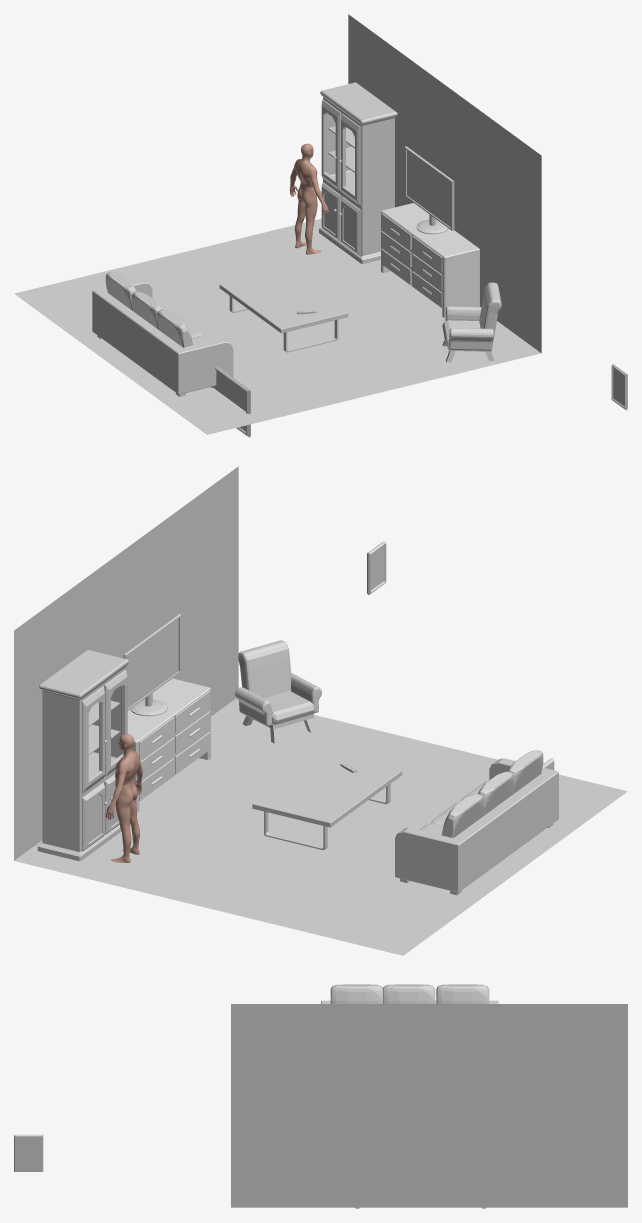
Rendered from Painting_Large.fbx.
The picture shows the model from 3 angles, top to bottom: view 1: azimuth 30°, elevation 25°; view 2: azimuth 150°, elevation 25°; view 3: azimuth 270°, elevation 25°; orthographic projection. The views are drawn at different scales.
Parts seen in each view (by area): view 1: Cube.009, Cube.012, Cube.019, Cube.002, Cube, Cube.036, Cube.004, HumanBody:humanBody, Cube.062, Cube.016, Cube.030, Cube.022 (+5 smaller); view 2: Cube.009, Cube.012, Cube.019, Cube.002, Cube.036, Cube.004, Cube, HumanBody:humanBody, Cube.062, Cube.013, Cube.016, Cube.020 (+7 smaller); view 3: Cube.009, Cube.031, Cube.020, Cube.021, Cube.023.
Part boxes in pixels (x1,y1,x2,y2): Cube.009: (14,14,541,434); Cube.012: (319,82,397,263); Cube.019: (92,279,233,396); Cube.002: (219,268,348,352); Cube: (381,203,479,317); Cube.036: (442,282,501,362); Cube.004: (404,146,454,230); HumanBody:humanBody: (289,143,329,254); Cube.062: (321,99,341,191); Cube.016: (339,113,360,205); Cube.030: (211,366,250,437); Cube.022: (339,196,360,255); Cube.009: (14,466,627,955); Cube.012: (37,650,130,861); Cube.019: (395,758,558,895); Cube.002: (252,751,402,850); Cube.036: (235,640,321,743); Cube.004: (123,614,181,710); Cube: (127,678,210,812); HumanBody:humanBody: (105,734,142,862); Cube.062: (82,686,107,793); Cube.013: (82,782,107,851); Cube.016: (104,670,127,776); Cube.020: (441,794,483,837); Cube.009: (231,1004,627,1207); Cube.031: (14,1134,43,1171); Cube.020: (436,984,489,1003); Cube.021: (330,984,382,1003); Cube.023: (383,984,435,1003).
Size of the model in its own units: 601 by 380 by 929.
